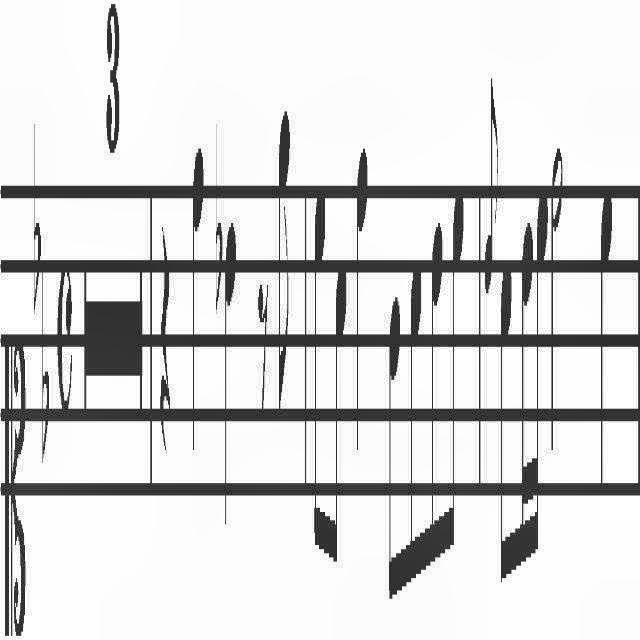Bemol: (40, 235, 52, 490), (212, 103, 224, 344), (30, 110, 40, 348)
Eighth-note: (311, 147, 329, 588), (425, 186, 445, 574), (385, 275, 405, 623), (449, 186, 467, 564), (408, 240, 424, 612), (276, 89, 294, 419), (498, 227, 514, 595), (332, 220, 348, 582)
Eighth-rest: (255, 248, 269, 444)
Half-note: (548, 132, 570, 468)
Quarter-note: (599, 165, 617, 509), (188, 130, 206, 458), (354, 137, 371, 447), (223, 202, 237, 510)
Quarter-rest: (153, 200, 174, 512)
Sixteenth-note: (534, 155, 550, 585), (518, 207, 534, 586)
